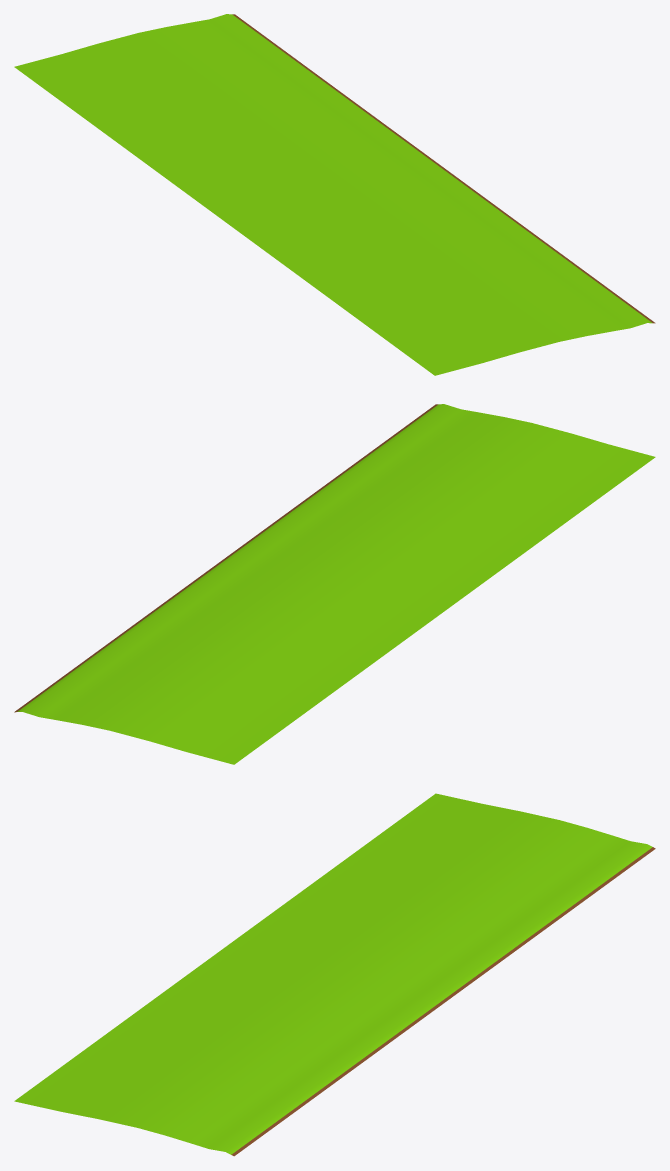
The model's file is Highway Control Sol Yes╠ğil Alan.fbx.
The picture shows the model from 3 angles, top to bottom: view 1: azimuth 30°, elevation 25°; view 2: azimuth 150°, elevation 25°; view 3: azimuth 330°, elevation 25°; orthographic projection.
Parts seen in each view (by area): view 1: Sağ.001; view 2: Sağ.001; view 3: Sağ.001.
Boxes of the visible parts, <box> form: Sağ.001: <box>14,14,655,375</box>; Sağ.001: <box>14,404,655,764</box>; Sağ.001: <box>14,793,655,1156</box>.
Bounding box in the file's own units: 5779 × 123 × 19051.
1 material, 1 textured.
